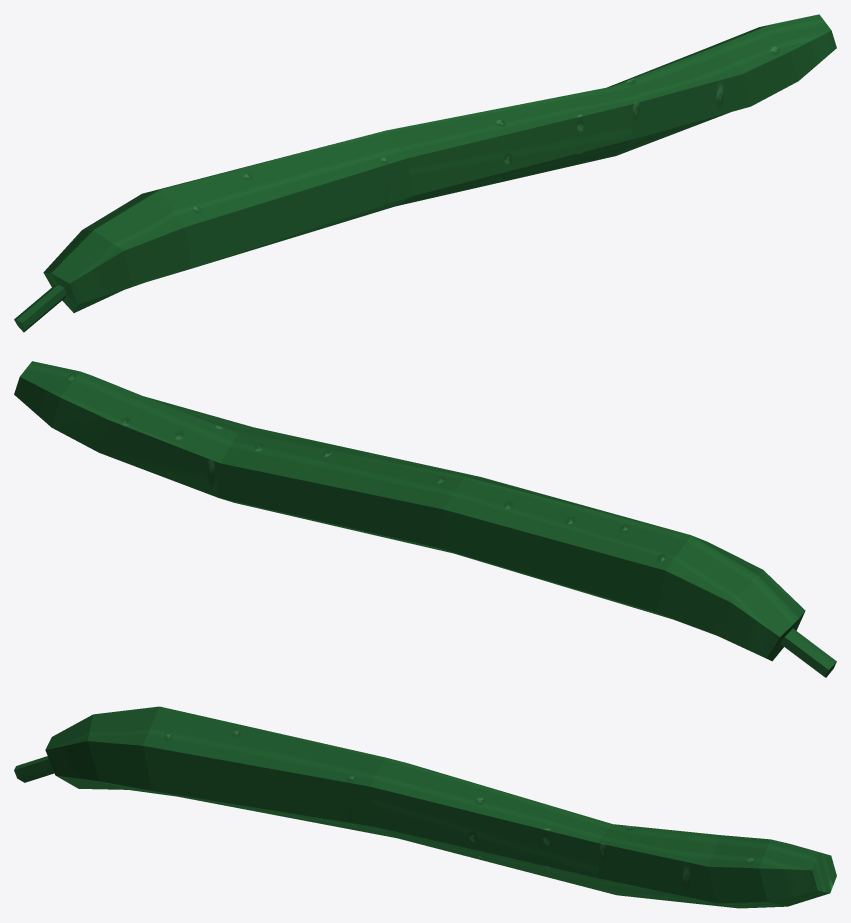
The model's file is Cucumber_ani.fbx.
3 views of the same model, one above another, from view 1: azimuth 30°, elevation 25°; view 2: azimuth 150°, elevation 25°; view 3: azimuth 330°, elevation 25° (orthographic).
Visible parts, largest first — view 1: Cylinder.001; view 2: Cylinder.001; view 3: Cylinder.001.
Boxes of the visible parts, x1,y1,x2,y2 form: Cylinder.001: [14, 14, 836, 332]; Cylinder.001: [14, 361, 836, 677]; Cylinder.001: [14, 706, 836, 908].
Bounding box in the file's own units: 1787 × 263 × 165.
1 material, 1 textured.
